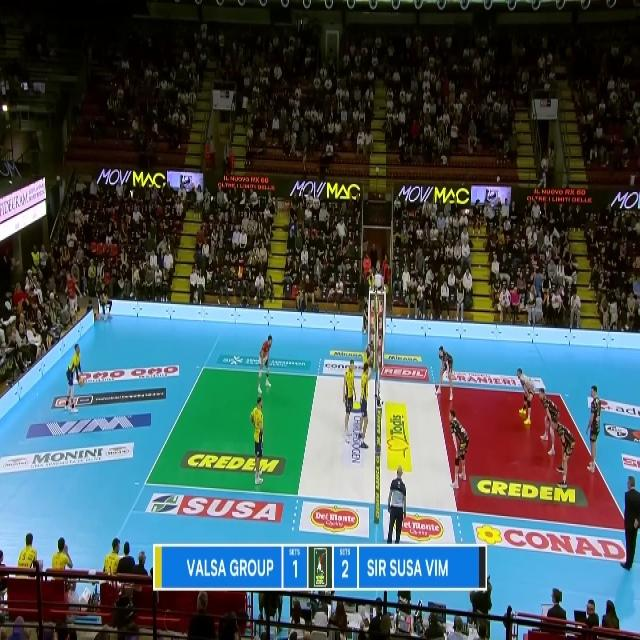volleyball court: (145, 366, 640, 530)
